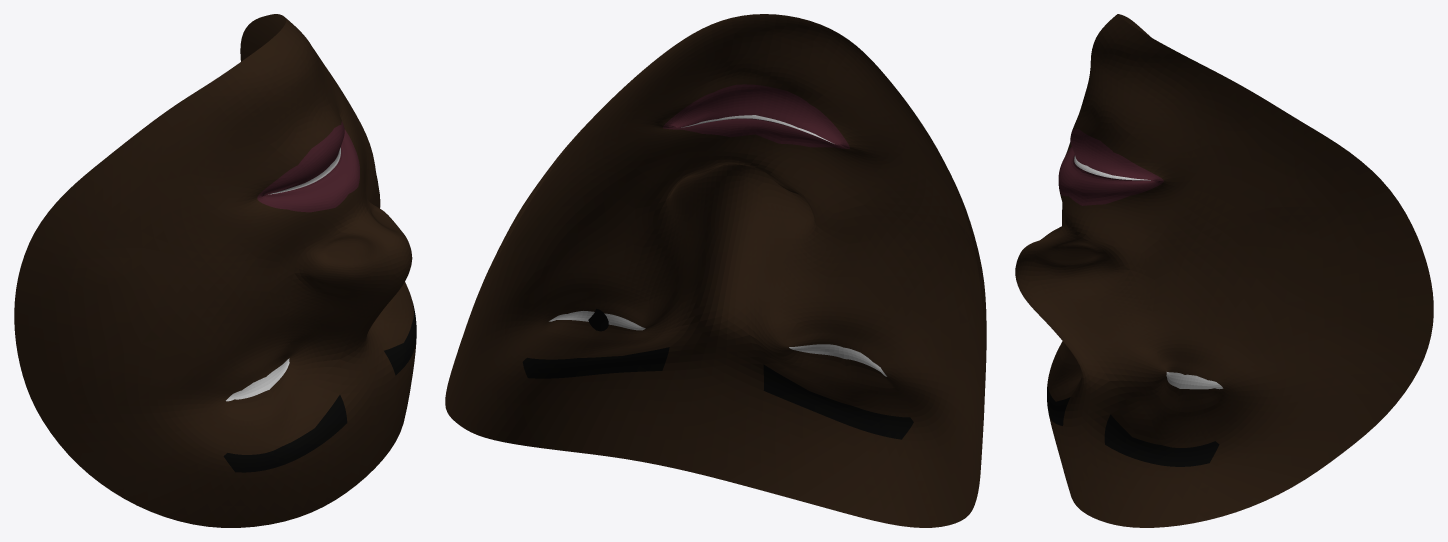
Rendered from frame_00153.obj.
The picture shows the model from 3 angles, left to right: view 1: azimuth 30°, elevation 25°; view 2: azimuth 150°, elevation 25°; view 3: azimuth 270°, elevation 25°; orthographic projection. The views are drawn at different scales.
Parts seen in each view (by area): view 1: face_mesh_subdivided; view 2: face_mesh_subdivided; view 3: face_mesh_subdivided.
Part boxes in pixels (box(x1,y1,x2,y2)): face_mesh_subdivided: box(14, 14, 416, 527); face_mesh_subdivided: box(445, 14, 986, 527); face_mesh_subdivided: box(1015, 14, 1433, 527).
Size of the model in its own units: 0.4977 by 0.5348 by 0.4356.
